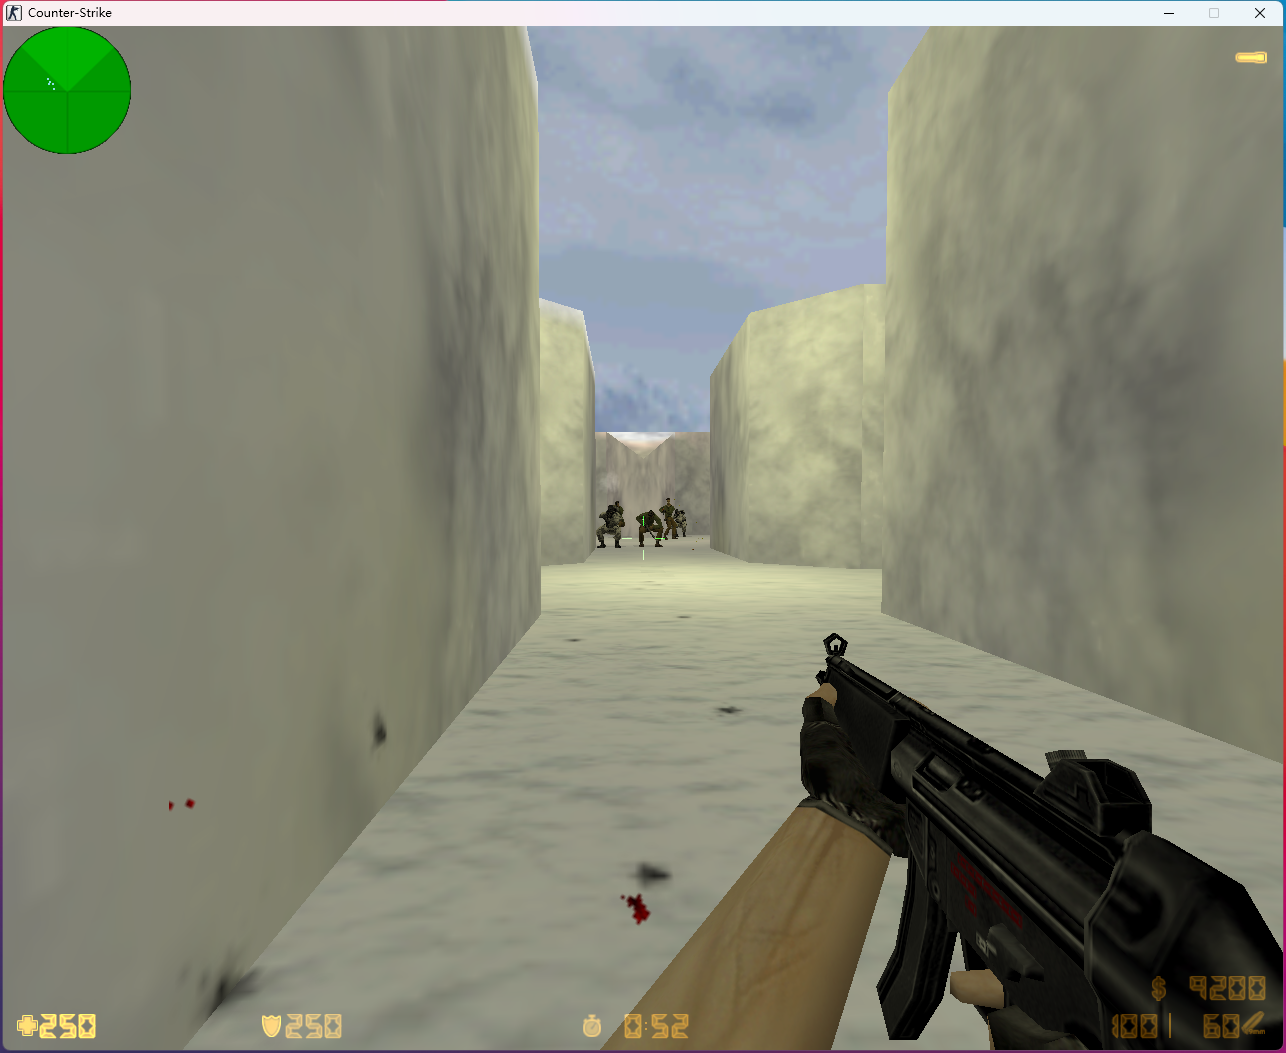T: (594, 502, 624, 549), (637, 506, 663, 547), (663, 500, 675, 537), (674, 508, 687, 536)
